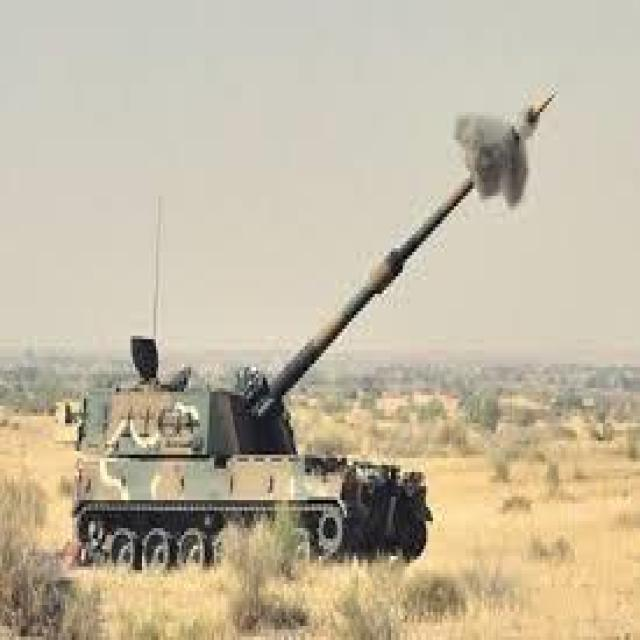Tanks: (80, 353, 441, 574)
